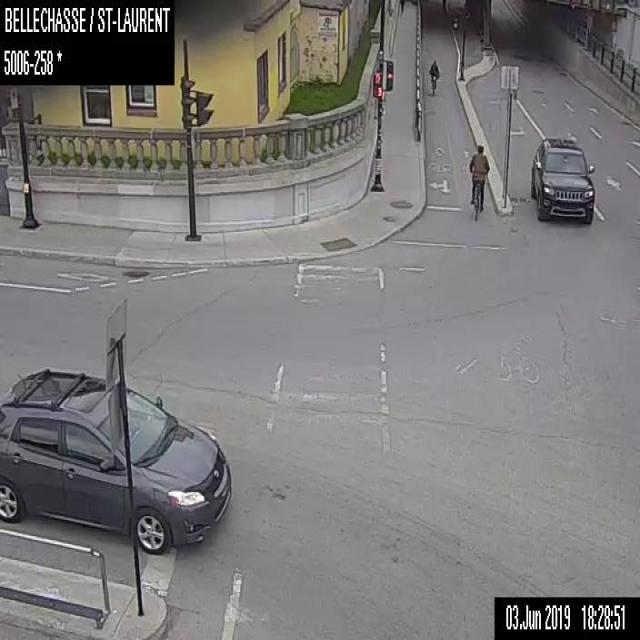cyclist: (468, 144, 489, 221), (428, 58, 439, 95)
pedestrian: (399, 0, 404, 12)
vehicle: (0, 369, 232, 555), (530, 138, 594, 224)
